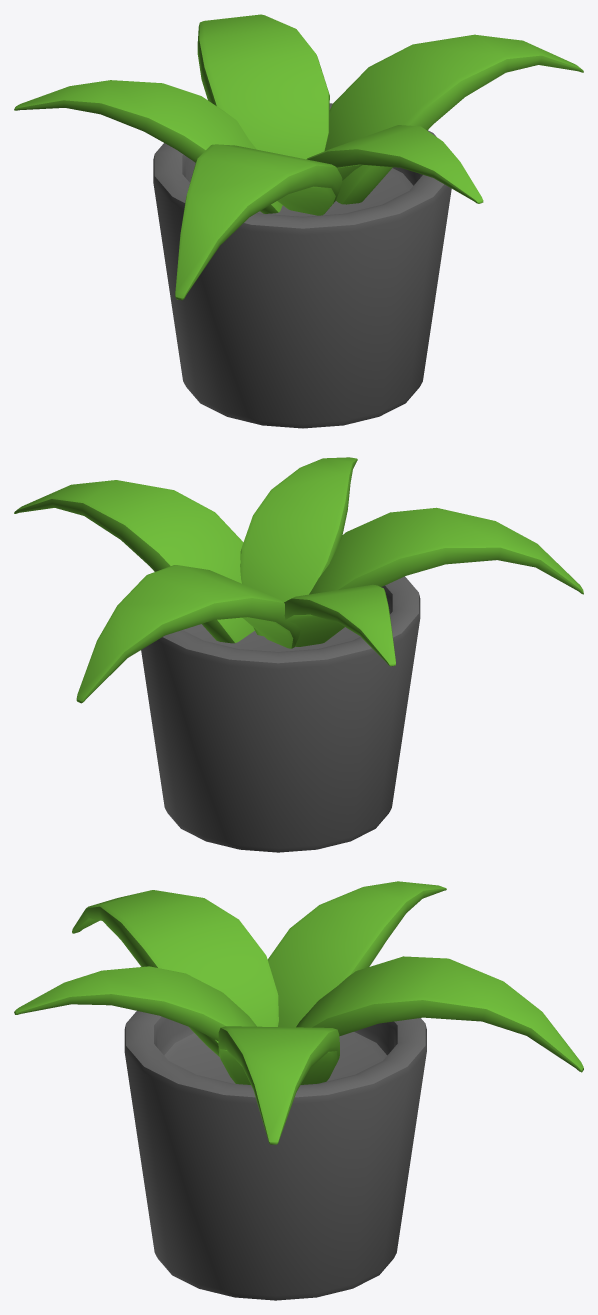
The model's file is SM_plant_room_04.fbx.
3 renders of one model, top to bottom at view 1: azimuth 30°, elevation 25°; view 2: azimuth 150°, elevation 25°; view 3: azimuth 270°, elevation 25°, orthographic. The views are drawn at different scales.
Parts seen in each view (by area): view 1: Object077; view 2: Object077; view 3: Object077.
Part boxes in pixels (box(x1,y1,x2,y2)): Object077: box(14, 14, 583, 428); Object077: box(14, 457, 583, 852); Object077: box(14, 881, 583, 1300).
Size of the model in its own units: 34.75 by 19.06 by 33.78.
